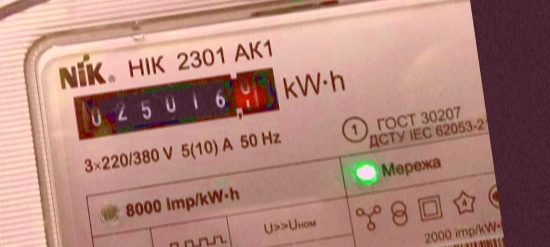0: (164, 89, 181, 114), (89, 104, 105, 128), (238, 74, 253, 95)
1: (188, 85, 203, 111), (244, 97, 253, 109)
2: (115, 97, 131, 122)
5: (140, 97, 154, 119)
6: (213, 84, 229, 111)
screen: (63, 56, 292, 148)
